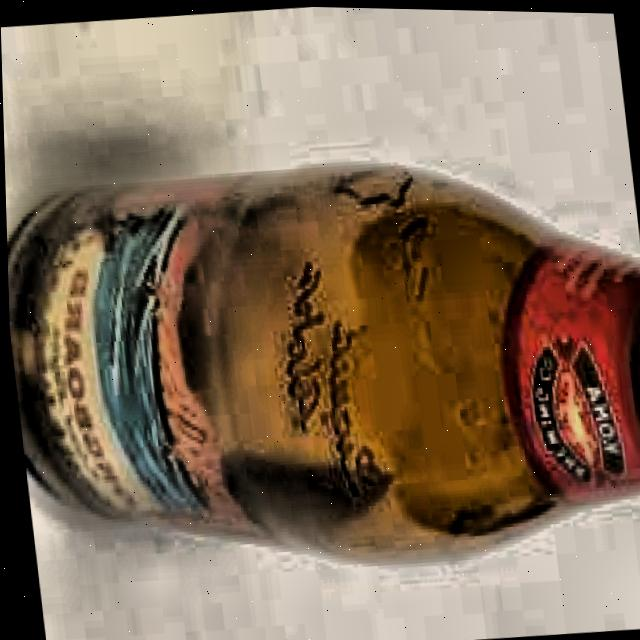glass: (6, 160, 640, 570)
